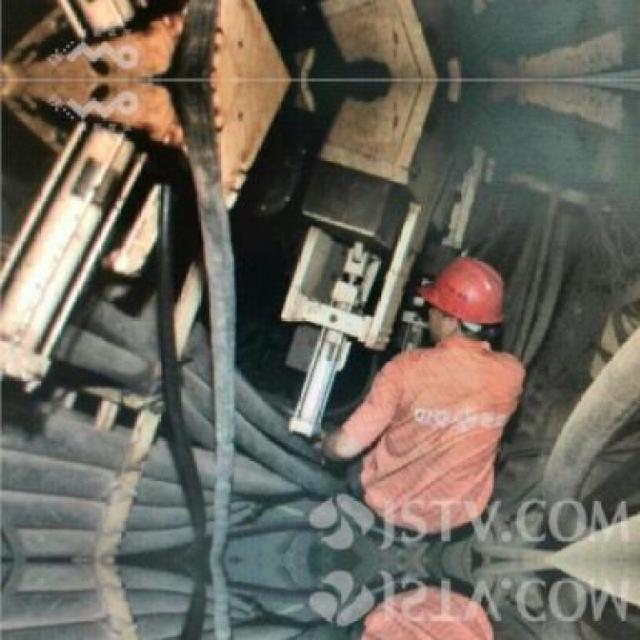helmet: (420, 252, 512, 348)
